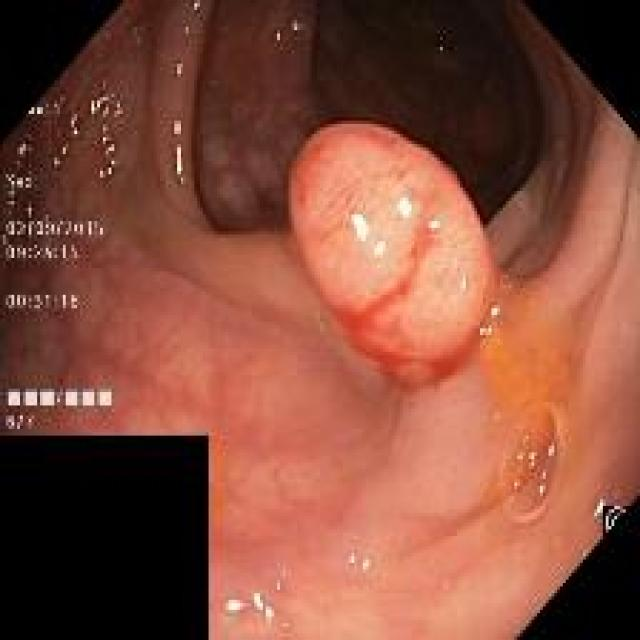Polyps: (290, 123, 496, 388)
